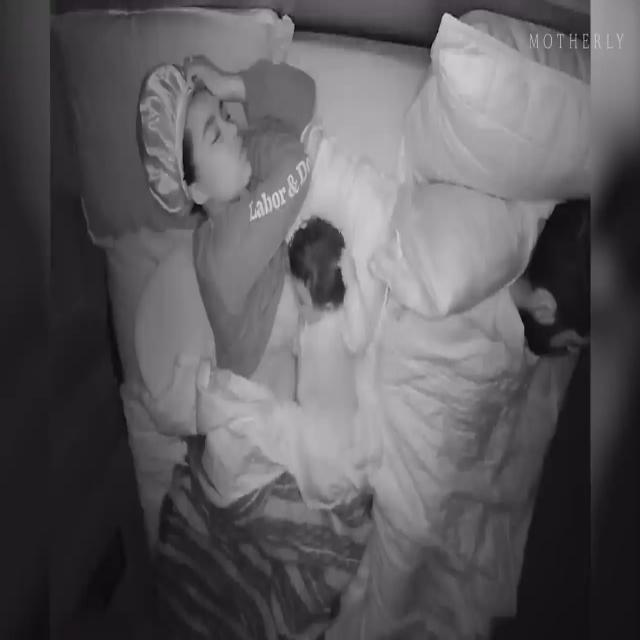baby: (290, 221, 370, 451)
